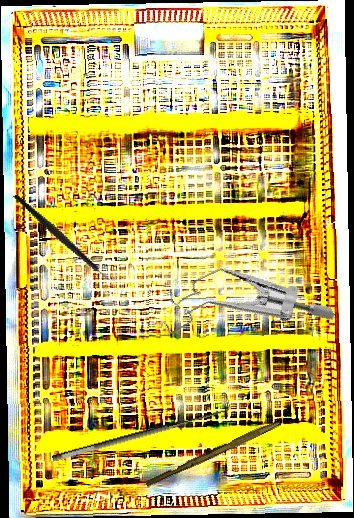Chopper: (12, 170, 120, 305)
Hook Surgical: (48, 393, 233, 465)
Scalpel Handle: (144, 416, 282, 490)
Speculum: (146, 229, 337, 388)
